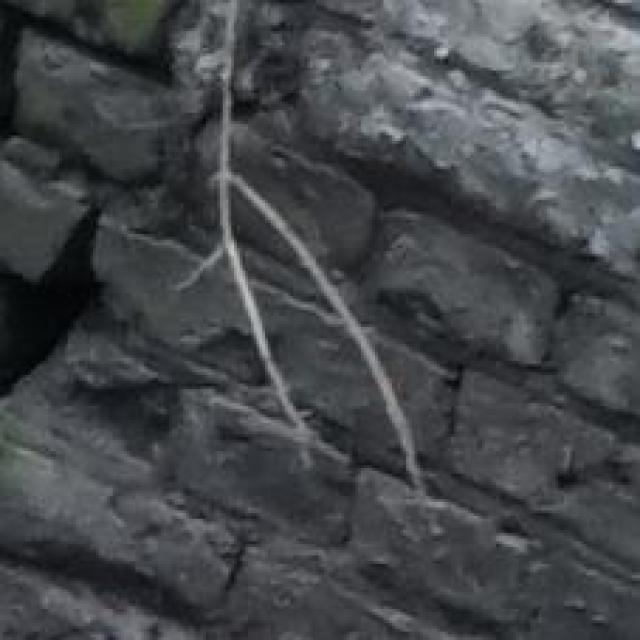Crack: (0, 0, 237, 502)
